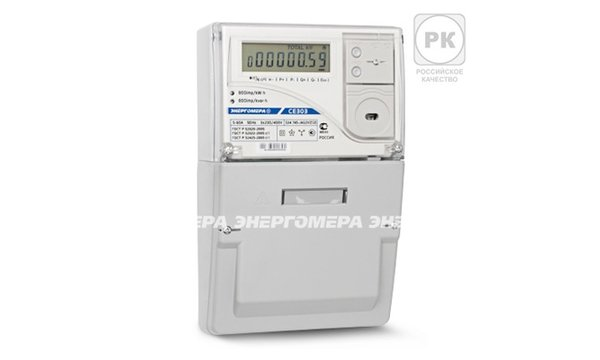counter: (204, 14, 408, 335)
counter_screen: (240, 39, 332, 74)
